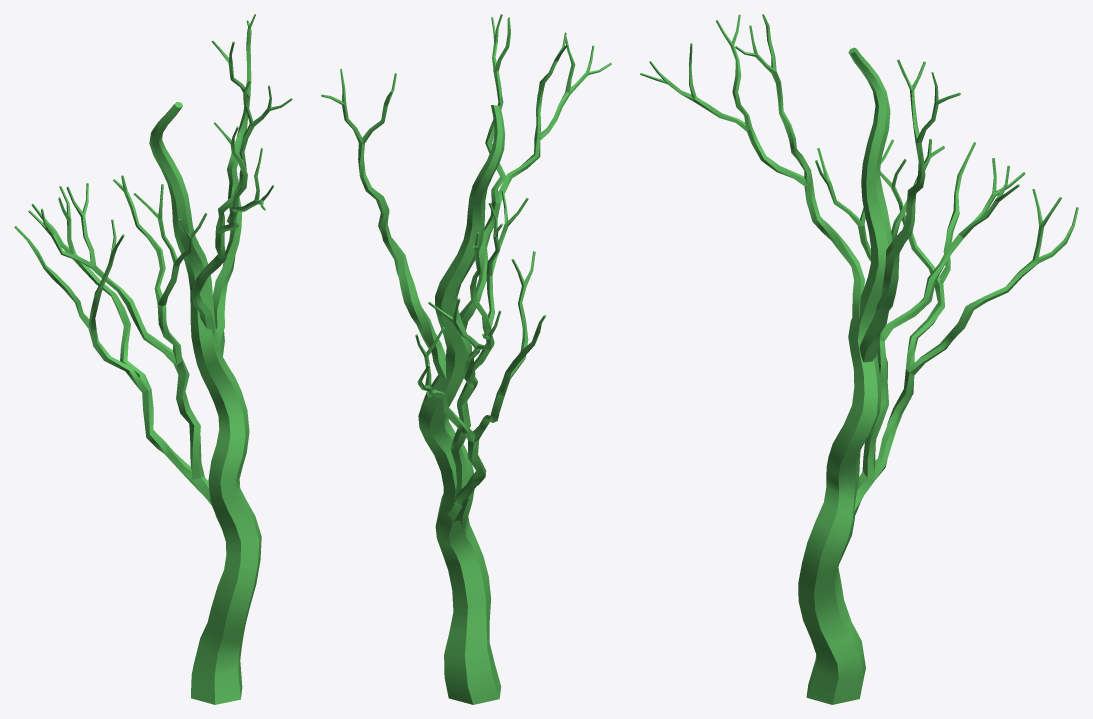
Rendered from jungle_wiggle_tree_C_curved.fbx.
3 views of the same model, side by side, from view 1: azimuth 30°, elevation 25°; view 2: azimuth 150°, elevation 25°; view 3: azimuth 270°, elevation 25° (orthographic). The views are drawn at different scales.
Parts seen in each view (by area): view 1: jungle_wiggle_tree_C_curved_branch, jungle_wiggle_tree_C_curved_branch_A, jungle_wiggle_tree_C_curved_branch_C, jungle_wiggle_tree_C_curved_branch_B; view 2: jungle_wiggle_tree_C_curved_branch, jungle_wiggle_tree_C_curved_branch_A, jungle_wiggle_tree_C_curved_branch_C, jungle_wiggle_tree_C_curved_branch_B; view 3: jungle_wiggle_tree_C_curved_branch, jungle_wiggle_tree_C_curved_branch_A, jungle_wiggle_tree_C_curved_branch_C, jungle_wiggle_tree_C_curved_branch_B.
Boxes of the visible parts, box(x1,y1,x2,y2) form: jungle_wiggle_tree_C_curved_branch: box(149, 101, 261, 704); jungle_wiggle_tree_C_curved_branch_A: box(14, 175, 213, 508); jungle_wiggle_tree_C_curved_branch_C: box(191, 80, 292, 340); jungle_wiggle_tree_C_curved_branch_B: box(211, 14, 255, 356); jungle_wiggle_tree_C_curved_branch: box(418, 105, 505, 704); jungle_wiggle_tree_C_curved_branch_A: box(415, 190, 546, 527); jungle_wiggle_tree_C_curved_branch_C: box(459, 14, 611, 330); jungle_wiggle_tree_C_curved_branch_B: box(321, 69, 446, 379); jungle_wiggle_tree_C_curved_branch: box(798, 47, 892, 704); jungle_wiggle_tree_C_curved_branch_A: box(815, 139, 1078, 515); jungle_wiggle_tree_C_curved_branch_C: box(640, 14, 864, 328); jungle_wiggle_tree_C_curved_branch_B: box(859, 59, 960, 362).
Bounding box in the file's own units: 350 × 938 × 550.
